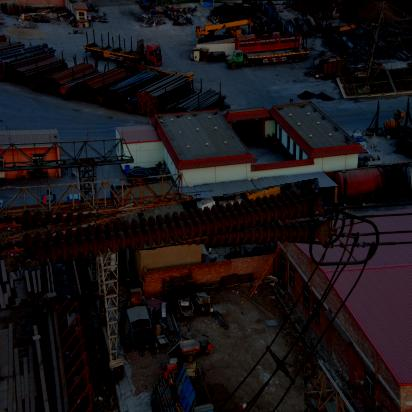insulator: (1, 193, 325, 260)
